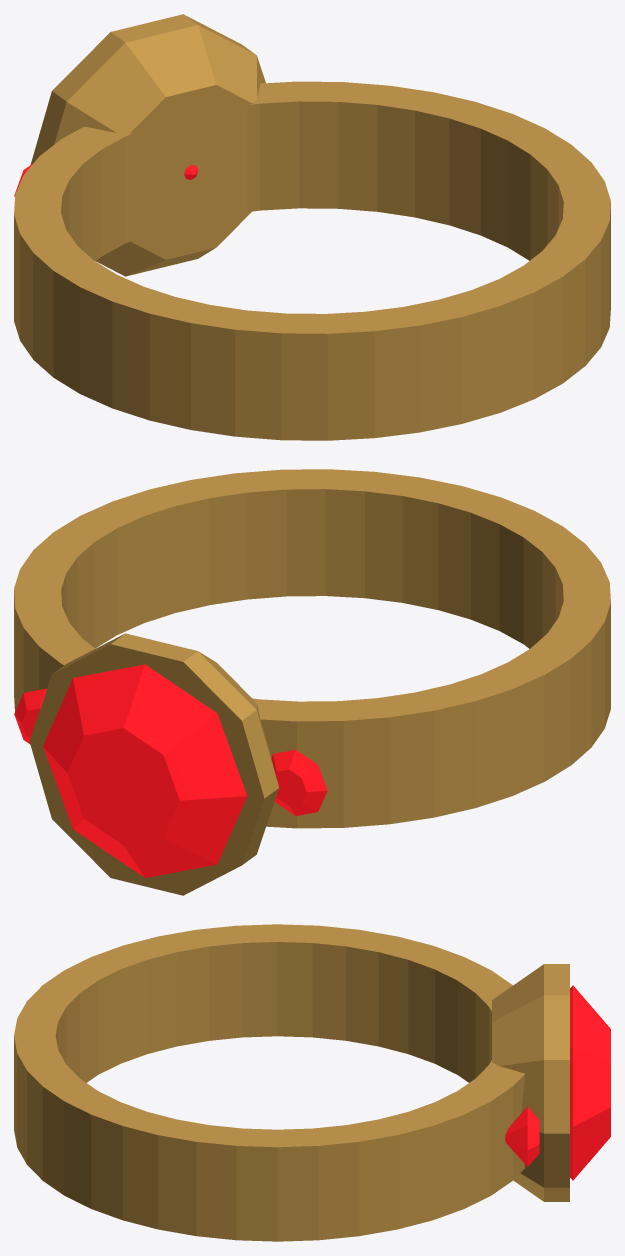
Rendered from ring_vital.glb.
The picture shows the model from 3 angles, top to bottom: view 1: azimuth 30°, elevation 25°; view 2: azimuth 150°, elevation 25°; view 3: azimuth 270°, elevation 25°; orthographic projection. The views are drawn at different scales.
Visible parts, largest first — view 1: Ring_Vital_Brass; view 2: Ring_Vital_Brass, Ring_Vital_Gem_vital; view 3: Ring_Vital_Brass, Ring_Vital_Gem_vital.
Boxes of the visible parts, x1,y1,x2,y2 form: Ring_Vital_Brass: [14, 14, 610, 440]; Ring_Vital_Brass: [14, 469, 610, 895]; Ring_Vital_Gem_vital: [14, 664, 327, 877]; Ring_Vital_Brass: [14, 924, 569, 1241]; Ring_Vital_Gem_vital: [505, 985, 610, 1180].
Size of the model in its own units: 0.0228 by 0.00984 by 0.0258.
